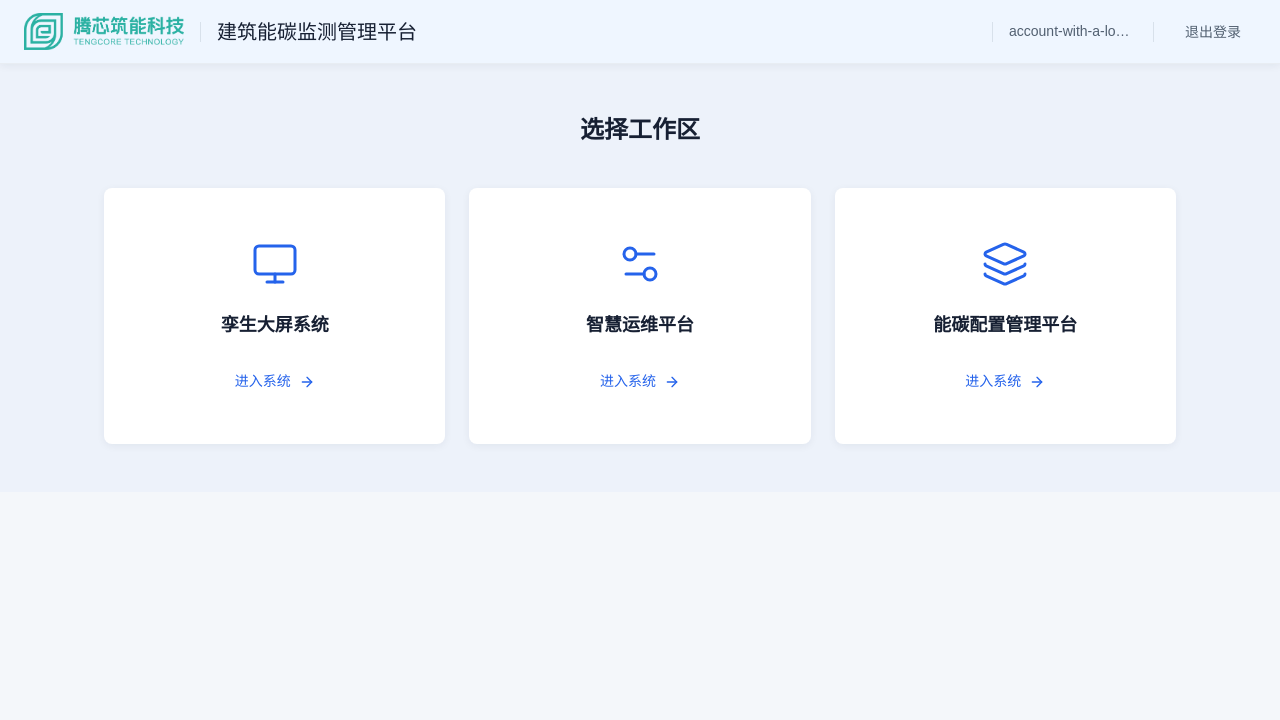
Test: workspace entry cards › keeps logout failure visible and does not navigate away
Click the button "退出登录".
click(1213, 32)  # box top-left (1170, 16), bottom-right (1256, 48)
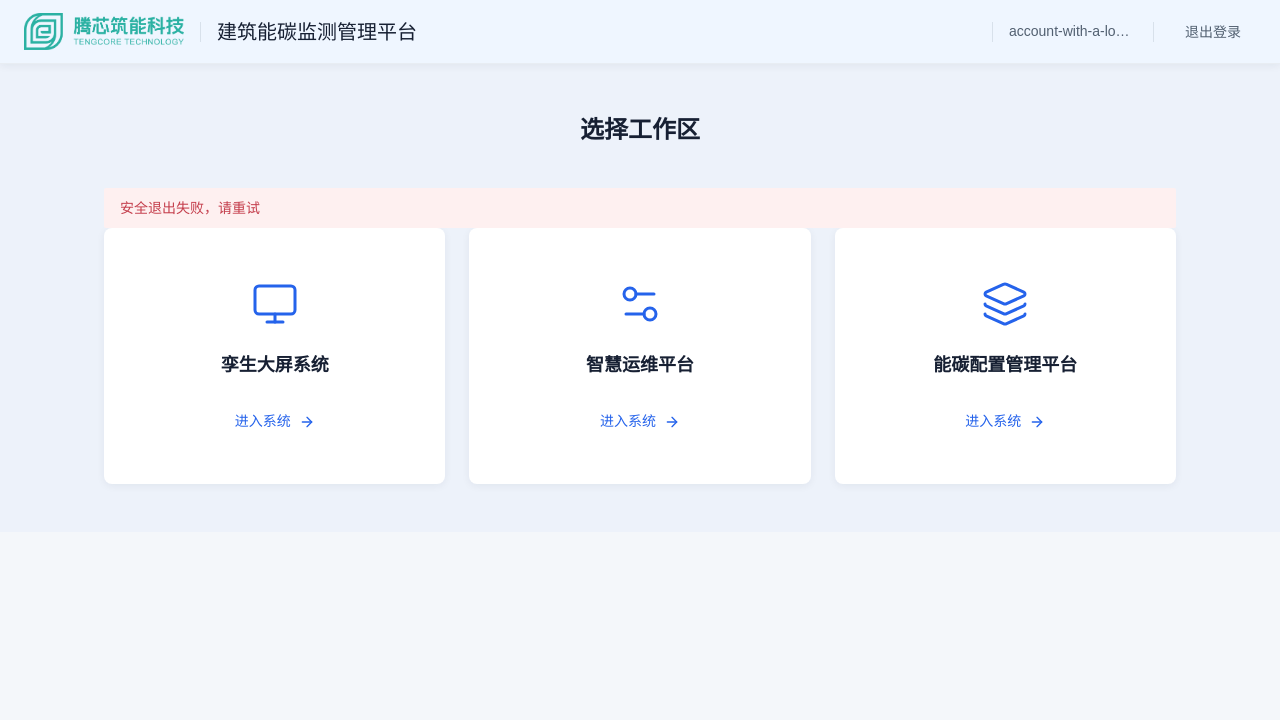
Expected: the text "安全退出失败" is shown, top-left (120, 200), bottom-right (260, 216)
